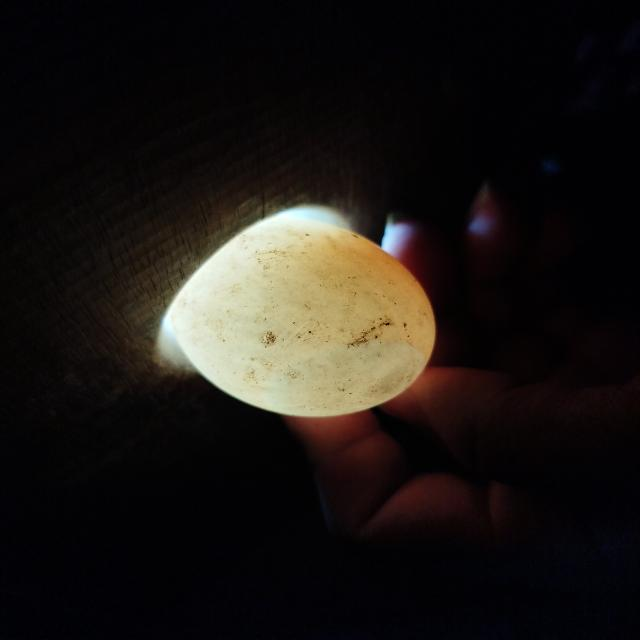Camara de Ar: (285, 340, 427, 417)
